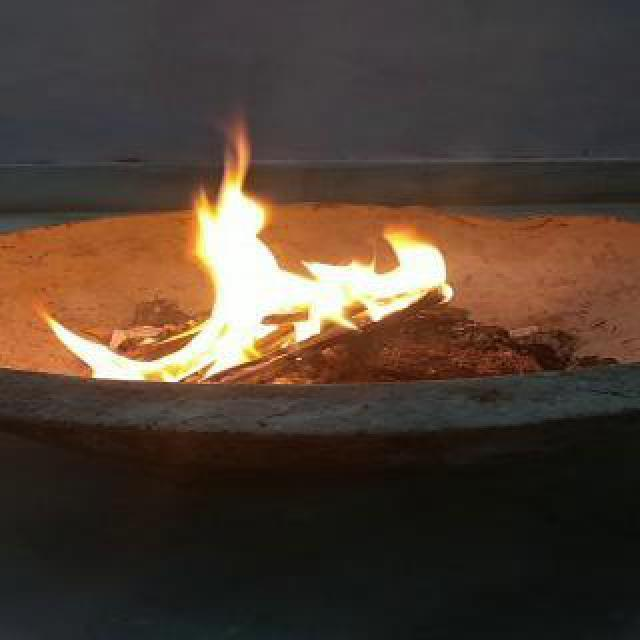Fire: (32, 98, 476, 386)
